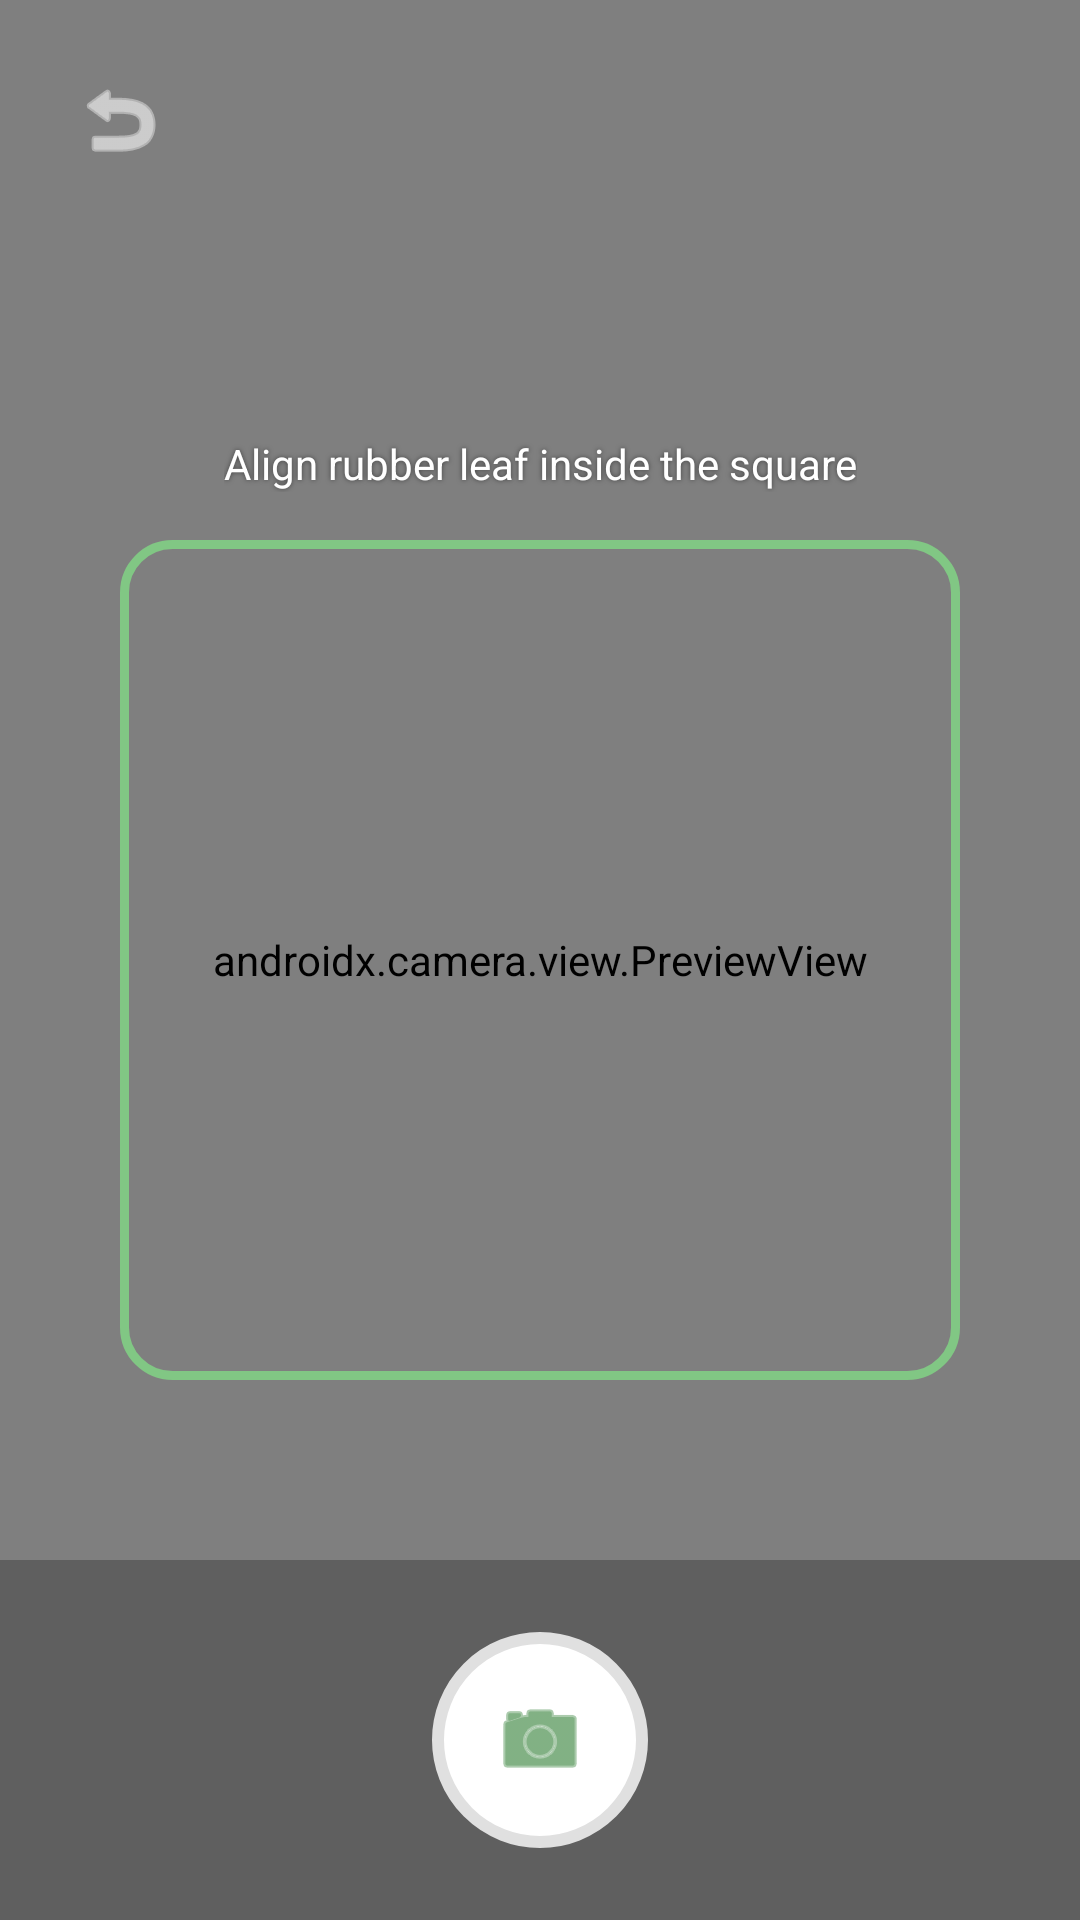

Locate icon controls on the screen. Image size 1080px x 1920px, boxes as (x1, y1, x2, y2).
revert: (87, 90, 156, 152)
